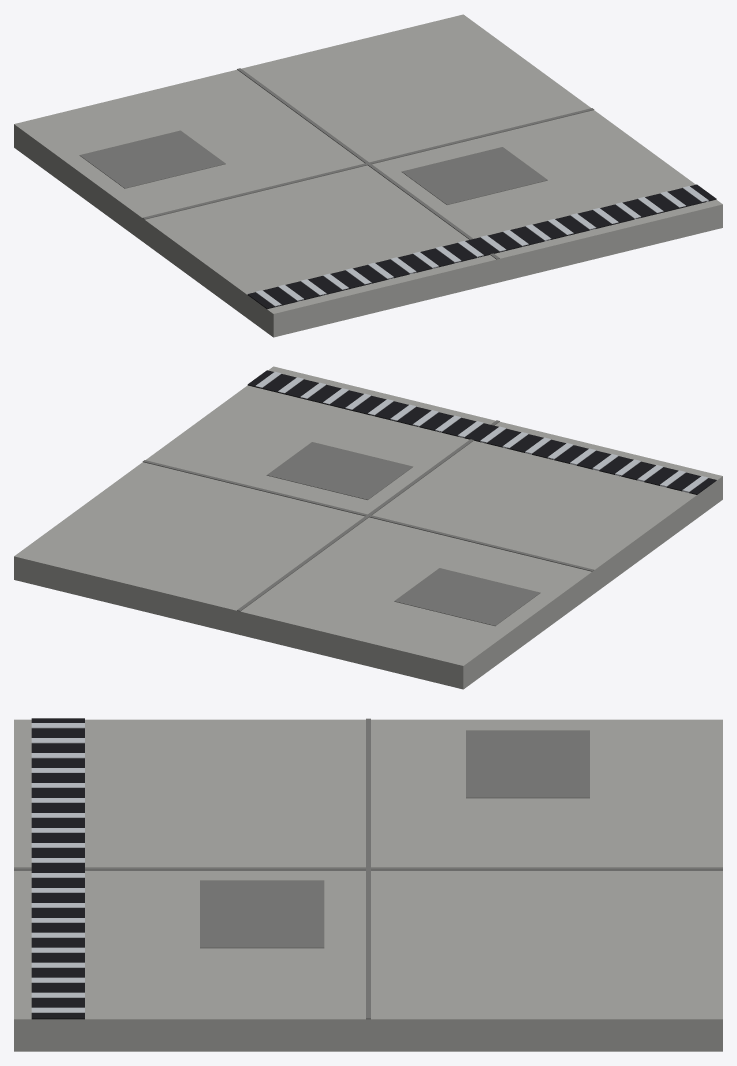
The model's file is Apron_Concrete_Slab_4m.glb.
The picture shows the model from 3 angles, top to bottom: view 1: azimuth 30°, elevation 25°; view 2: azimuth 150°, elevation 25°; view 3: azimuth 270°, elevation 25°; orthographic projection. The views are drawn at different scales.
Visible parts, largest first — view 1: Apron_Concrete_Slab_4m; view 2: Apron_Concrete_Slab_4m; view 3: Apron_Concrete_Slab_4m.
Boxes of the visible parts, box(x1,y1,x2,y2) form: Apron_Concrete_Slab_4m: box(14, 14, 722, 337); Apron_Concrete_Slab_4m: box(14, 366, 722, 689); Apron_Concrete_Slab_4m: box(14, 718, 722, 1051).
Bounding box in the file's own units: 4 × 0.212 × 4.
Materials: 1 (1 with a texture image).
